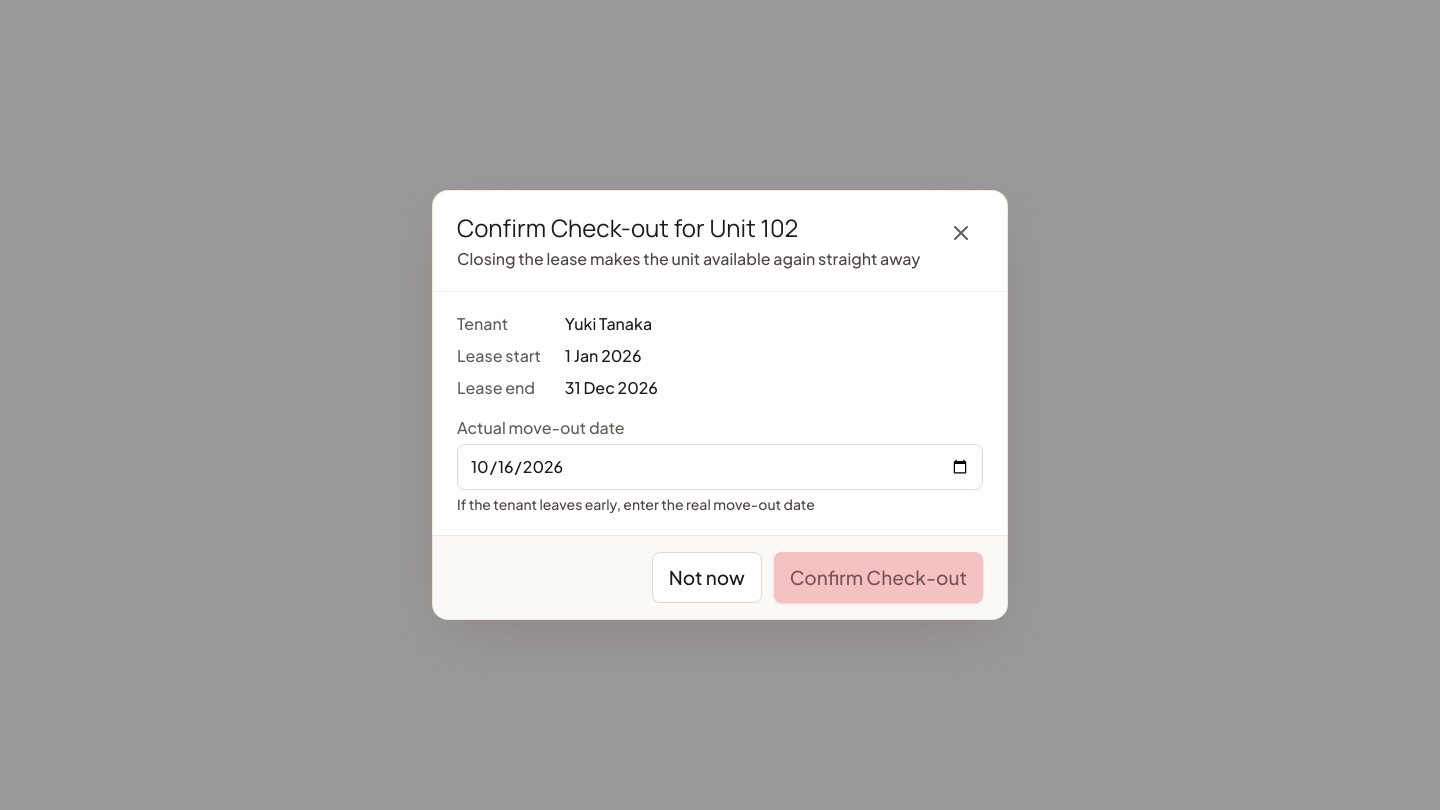
Test: ConfirmCheckOutDialog › shows an API error and keeps the dialog open when termination fails
The width and height of the screenshot is (1440, 810).
// Test 4: Verify that a failed checkout is visible and does not close the dialog.
Click the button "Confirm Check-out" at (878, 577), box top-left (774, 552), bottom-right (983, 602)
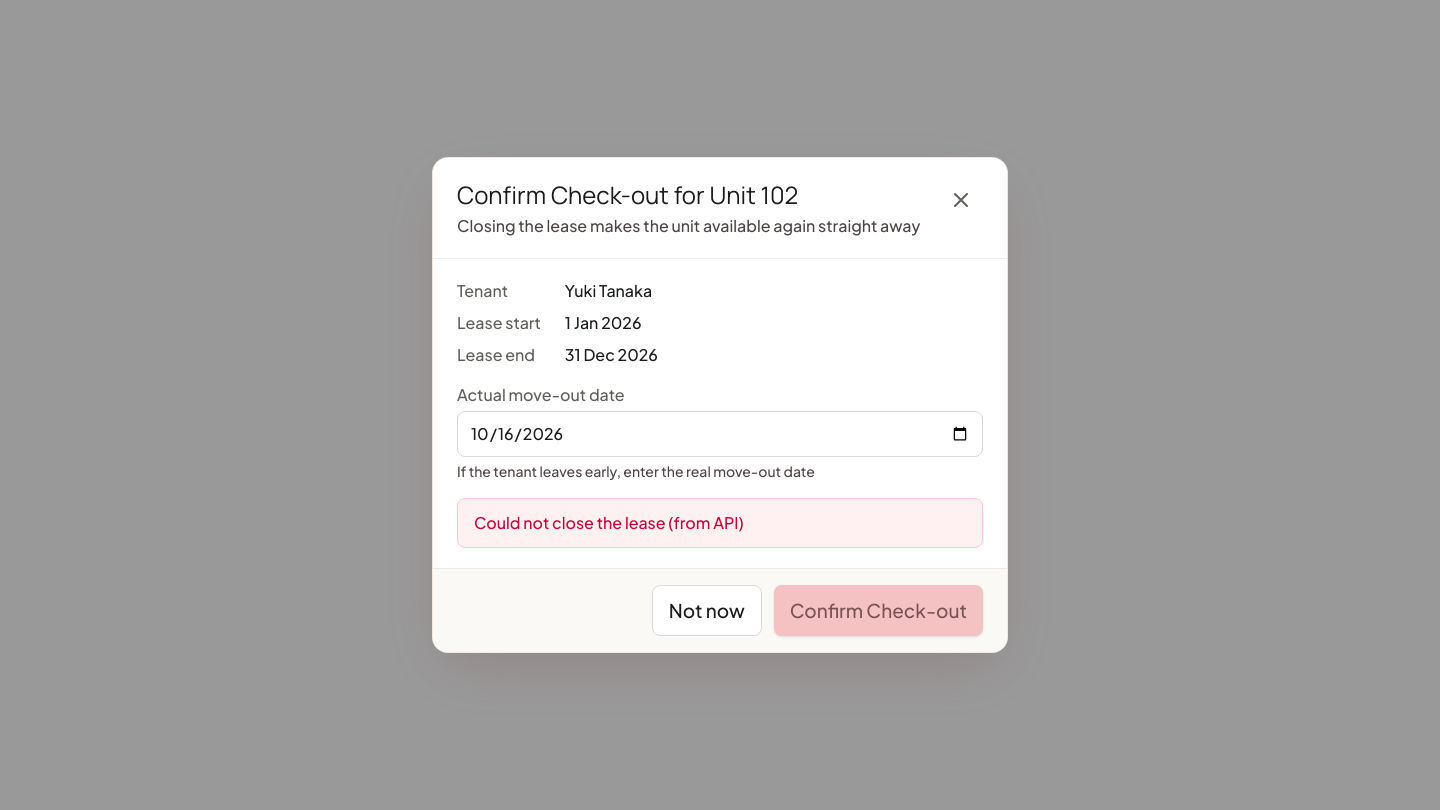
Expected: the dialog "Confirm Check-out for Unit 102" is shown, top-left (432, 158), bottom-right (1008, 653)
Result: the message reads "Could not close the lease (from API)" at top-left (474, 512), bottom-right (744, 533)
